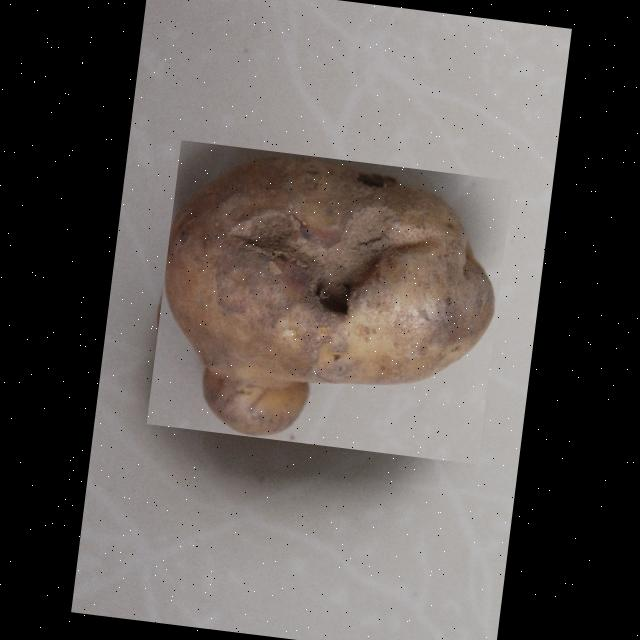Diseased-fungal potato: (146, 140, 512, 464)
